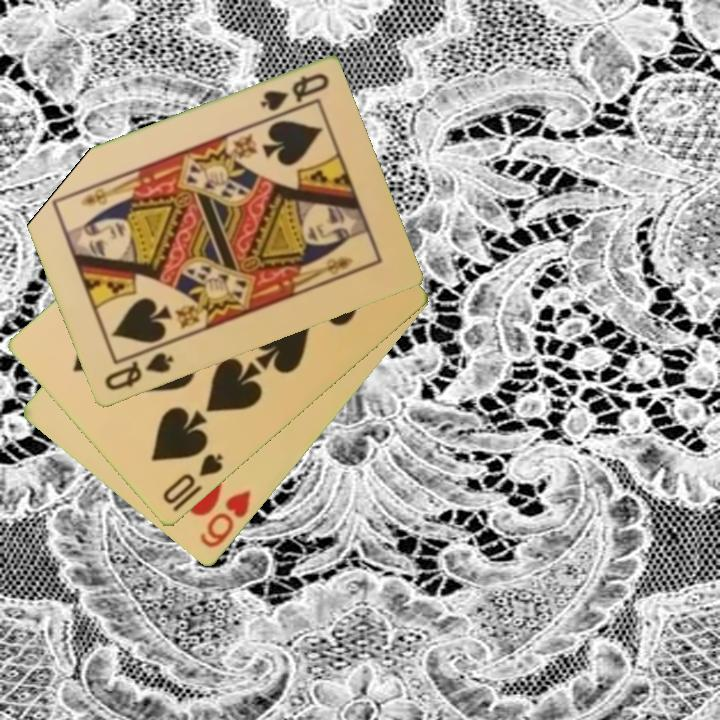10s: (159, 450, 227, 508)
6h: (196, 486, 255, 552)
Qs: (256, 69, 332, 115), (100, 349, 176, 394)
